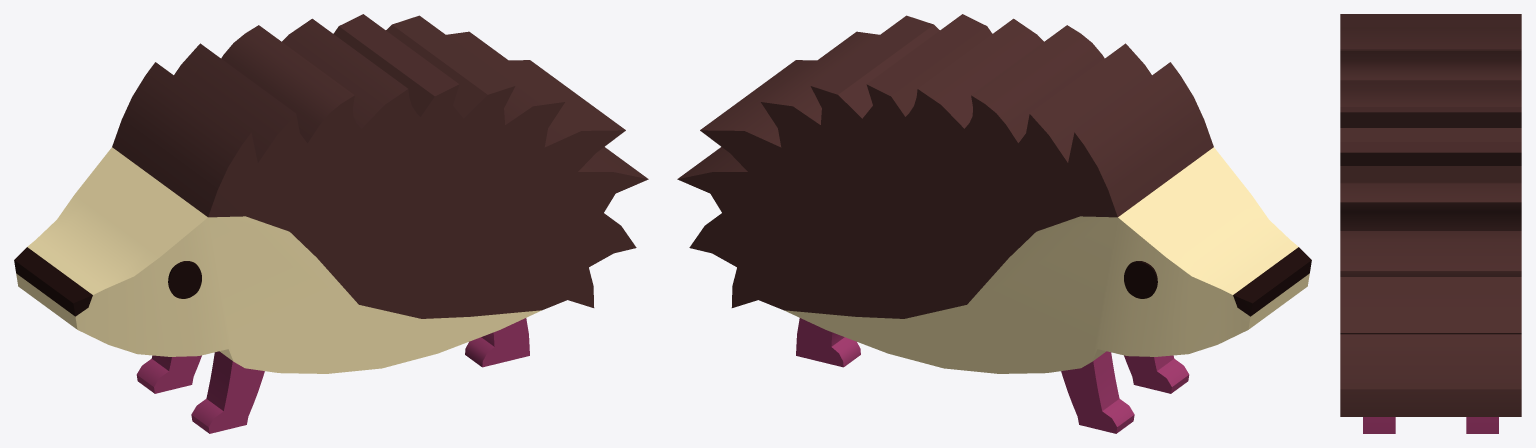
Rendered from Hedgehog.gltf.
3 views of the same model, side by side, from view 1: azimuth 30°, elevation 25°; view 2: azimuth 150°, elevation 25°; view 3: azimuth 270°, elevation 25° (orthographic). The views are drawn at different scales.
Parts seen in each view (by area): view 1: Plane.143, Circle.1923; view 2: Plane.143, Circle.1923; view 3: Plane.143.
Boxes of the visible parts, <box> form: Plane.143: <box>14,14,648,433</box>; Circle.1923: <box>168,261,201,298</box>; Plane.143: <box>677,14,1311,433</box>; Circle.1923: <box>1124,261,1157,298</box>; Plane.143: <box>1340,14,1521,433</box>.
Size of the model in its own units: 2.14 by 1.16 by 0.64.
Materials: 4 (1 with a texture image).
